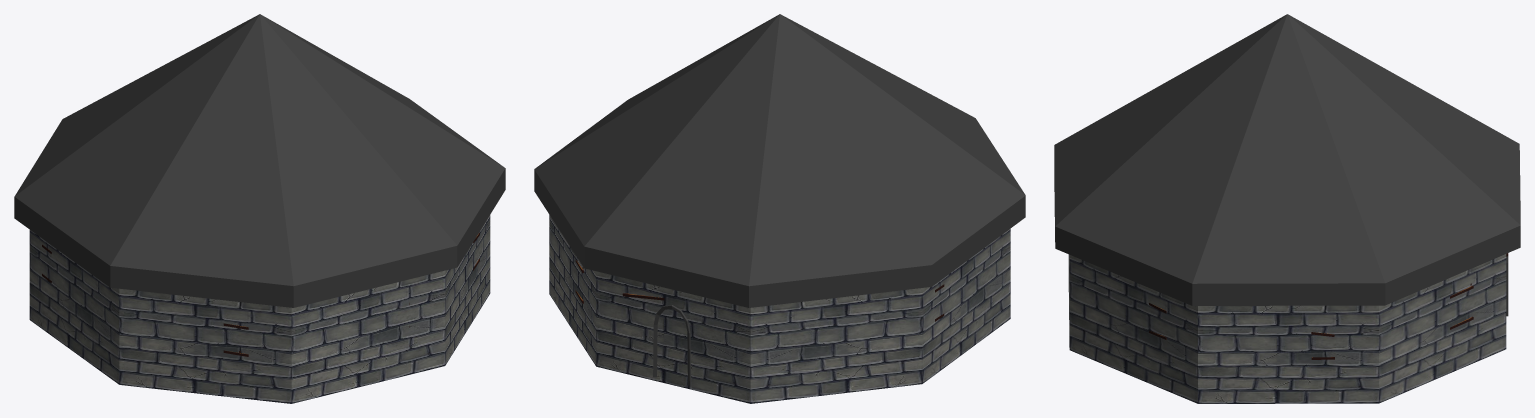
File: LevelLayout.fbx
3 views of the same model, side by side, from view 1: azimuth 30°, elevation 25°; view 2: azimuth 150°, elevation 25°; view 3: azimuth 270°, elevation 25° (orthographic).
Parts seen in each view (by area): view 1: Roof, Walls; view 2: Roof, Walls, Door; view 3: Roof, Walls.
Boxes of the visible parts, left/top/right/bottom form: Roof: left=14, top=14, right=505, bottom=307; Walls: left=29, top=215, right=490, bottom=403; Roof: left=534, top=14, right=1025, bottom=307; Walls: left=549, top=215, right=1010, bottom=403; Door: left=653, top=305, right=690, bottom=385; Roof: left=1054, top=14, right=1520, bottom=305; Walls: left=1068, top=254, right=1506, bottom=403.
Bounding box in the file's own units: 11551 × 8150 × 11551.
